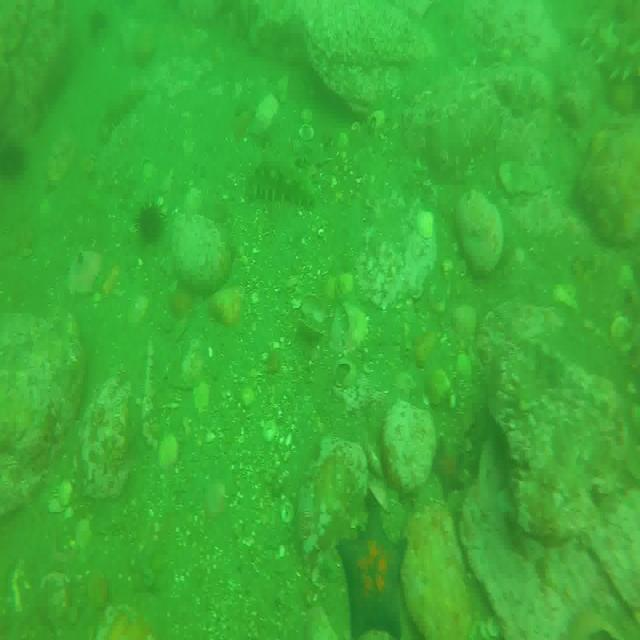echinus: (0, 134, 27, 182), (140, 200, 167, 241)
holothurian: (583, 18, 640, 82), (243, 162, 315, 208)
starfish: (335, 502, 406, 640), (431, 435, 463, 494)
